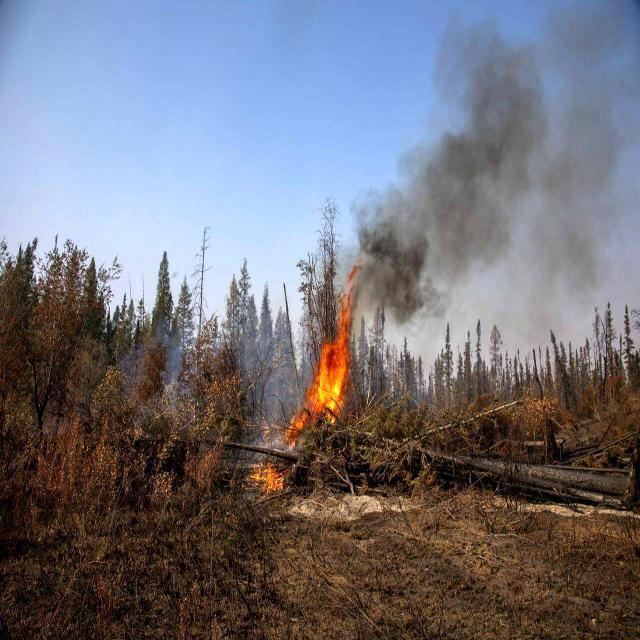Fire: (298, 255, 372, 448)
Smoke: (359, 0, 640, 383)
